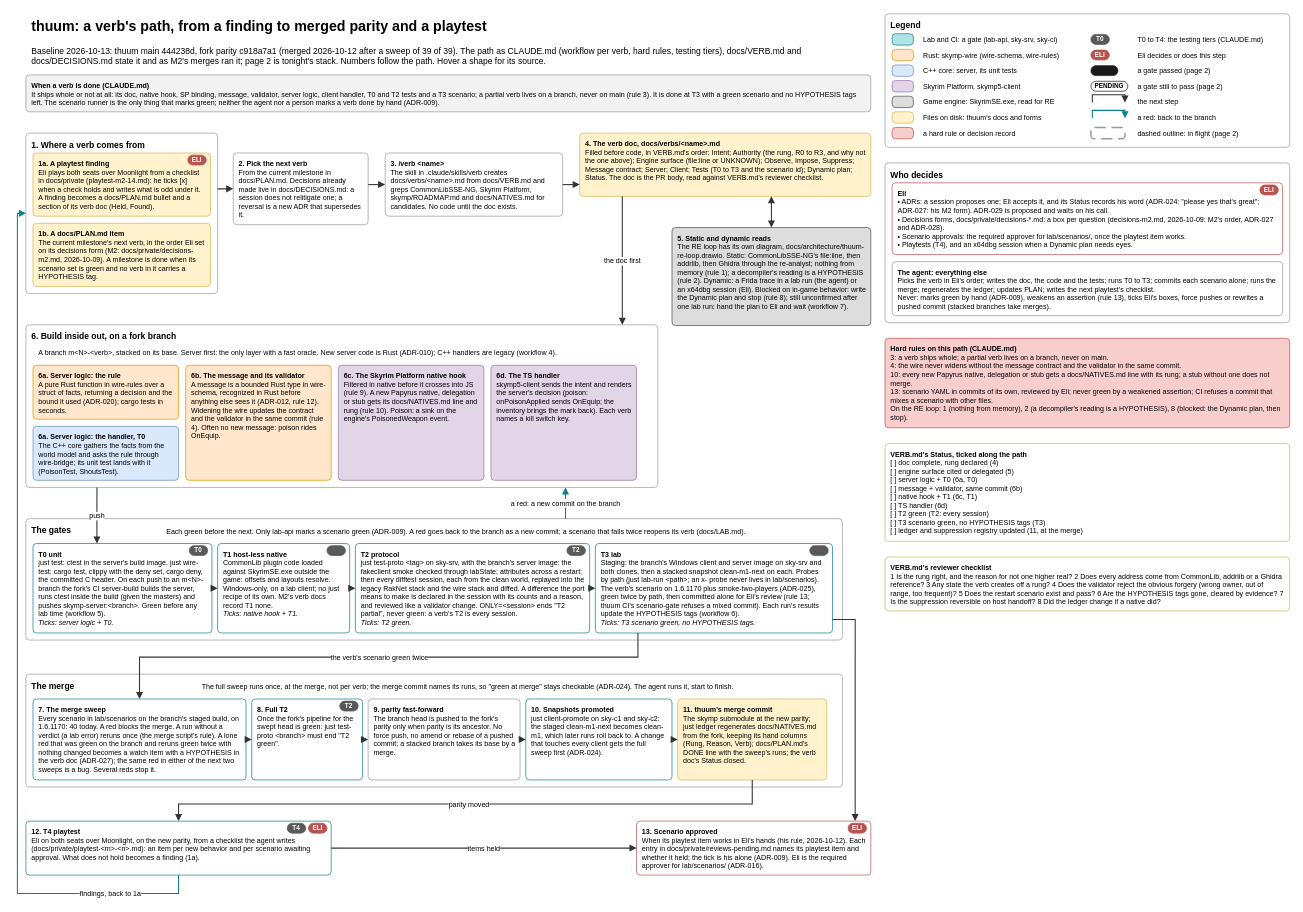
Some shapes in this 1303 by 912 pixel diagram are drawn without their labels. The shapes that lost their labels are listed below. From the top down, each one's centre as x and y in pixels, then its label:
At [1104,70]: "DONE".
At [335,550]: "T1".
At [818,550]: "T3".
